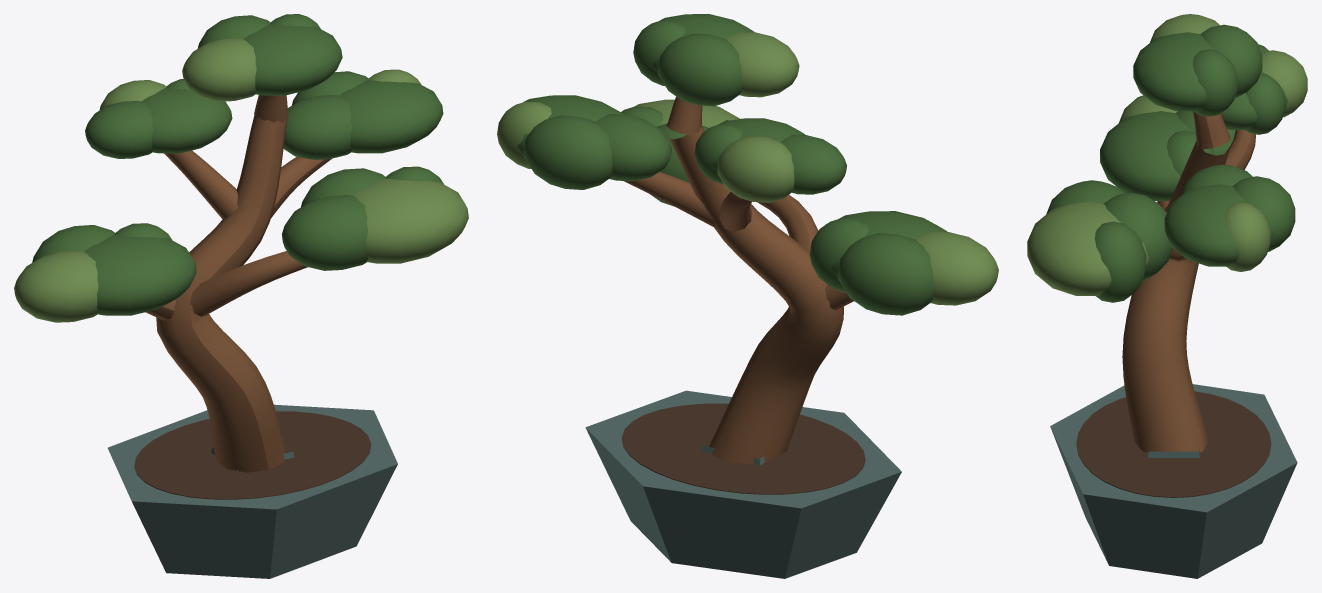
3 renders of one model, left to right at view 1: azimuth 30°, elevation 25°; view 2: azimuth 150°, elevation 25°; view 3: azimuth 270°, elevation 25°, orthographic. The views are drawn at different scales.
Parts seen in each view (by area): view 1: desktop-plant-foliage, desktop-plant-stems, desktop-plant-pot, desktop-plant-accent, desktop-plant-soil; view 2: desktop-plant-foliage, desktop-plant-pot, desktop-plant-stems, desktop-plant-accent, desktop-plant-soil; view 3: desktop-plant-foliage, desktop-plant-pot, desktop-plant-stems, desktop-plant-soil, desktop-plant-accent.
Part boxes in pixels (x1=…): desktop-plant-foliage: x1=32, y1=14, x2=443, y2=315; desktop-plant-stems: x1=145, y1=95, x2=331, y2=472; desktop-plant-pot: x1=107, y1=404, x2=397, y2=578; desktop-plant-accent: x1=14, y1=38, x2=468, y2=322; desktop-plant-soil: x1=134, y1=411, x2=371, y2=499; desktop-plant-foliage: x1=517, y1=14, x2=947, y2=315; desktop-plant-pot: x1=585, y1=390, x2=901, y2=578; desktop-plant-stems: x1=624, y1=96, x2=853, y2=463; desktop-plant-accent: x1=497, y1=31, x2=998, y2=305; desktop-plant-soil: x1=621, y1=403, x2=865, y2=494; desktop-plant-foliage: x1=1046, y1=24, x2=1295, y2=302; desktop-plant-pot: x1=1050, y1=384, x2=1297, y2=578; desktop-plant-stems: x1=1122, y1=111, x2=1255, y2=452; desktop-plant-soil: x1=1076, y1=391, x2=1271, y2=497; desktop-plant-accent: x1=1027, y1=14, x2=1307, y2=295.
Bounding box in the file's own units: 0.3242 × 0.3481 × 0.1749.
